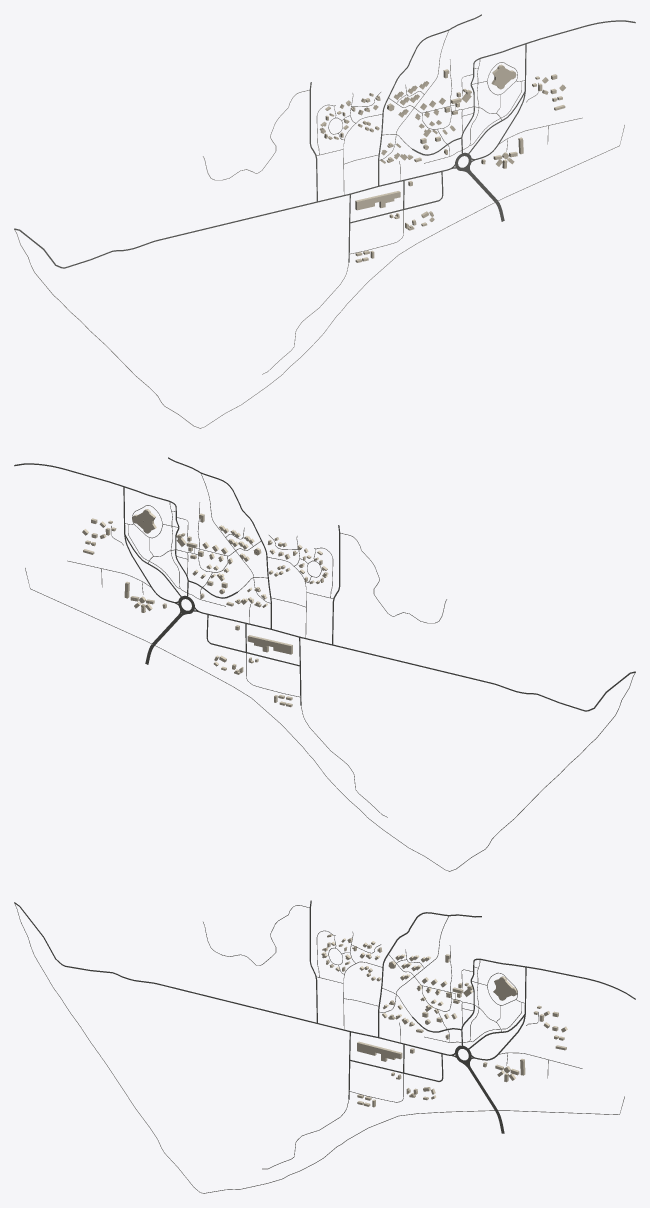
The model's file is historic-palestine-08_06_3502_3004.glb.
3 renders of one model, top to bottom at view 1: azimuth 30°, elevation 25°; view 2: azimuth 150°, elevation 25°; view 3: azimuth 330°, elevation 25°, orthographic.
Parts seen in each view (by area): view 1: Road .001, Road .002; view 2: Road .001, Road .002; view 3: Road .001, Road .002, Road .004, Building_.020.
Part boxes in pixels (<box>): Road .001: <box>14,168,451,268</box>; Road .002: <box>14,229,416,428</box>; Road .001: <box>198,611,635,711</box>; Road .002: <box>233,672,635,871</box>; Road .001: <box>14,902,451,1055</box>; Road .002: <box>14,903,416,1193</box>; Road .004: <box>461,958,635,1046</box>; Building_.020: <box>357,1041,402,1061</box>.
Size of the model in its own units: 1596 by 847 by 8.7.
